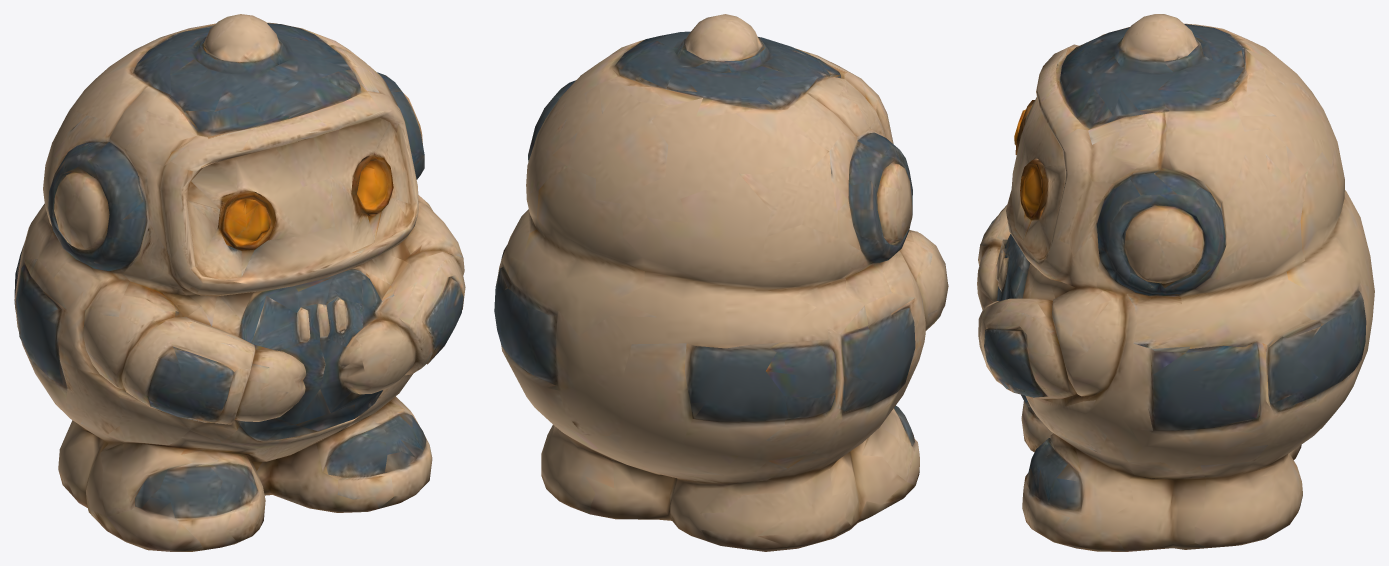
The model's file is bolt_buddy.glb.
3 renders of one model, left to right at view 1: azimuth 30°, elevation 25°; view 2: azimuth 150°, elevation 25°; view 3: azimuth 270°, elevation 25°, orthographic.
Size of the model in its own units: 0.863 by 1 by 0.7787.
Materials: 1 (1 with a texture image).
